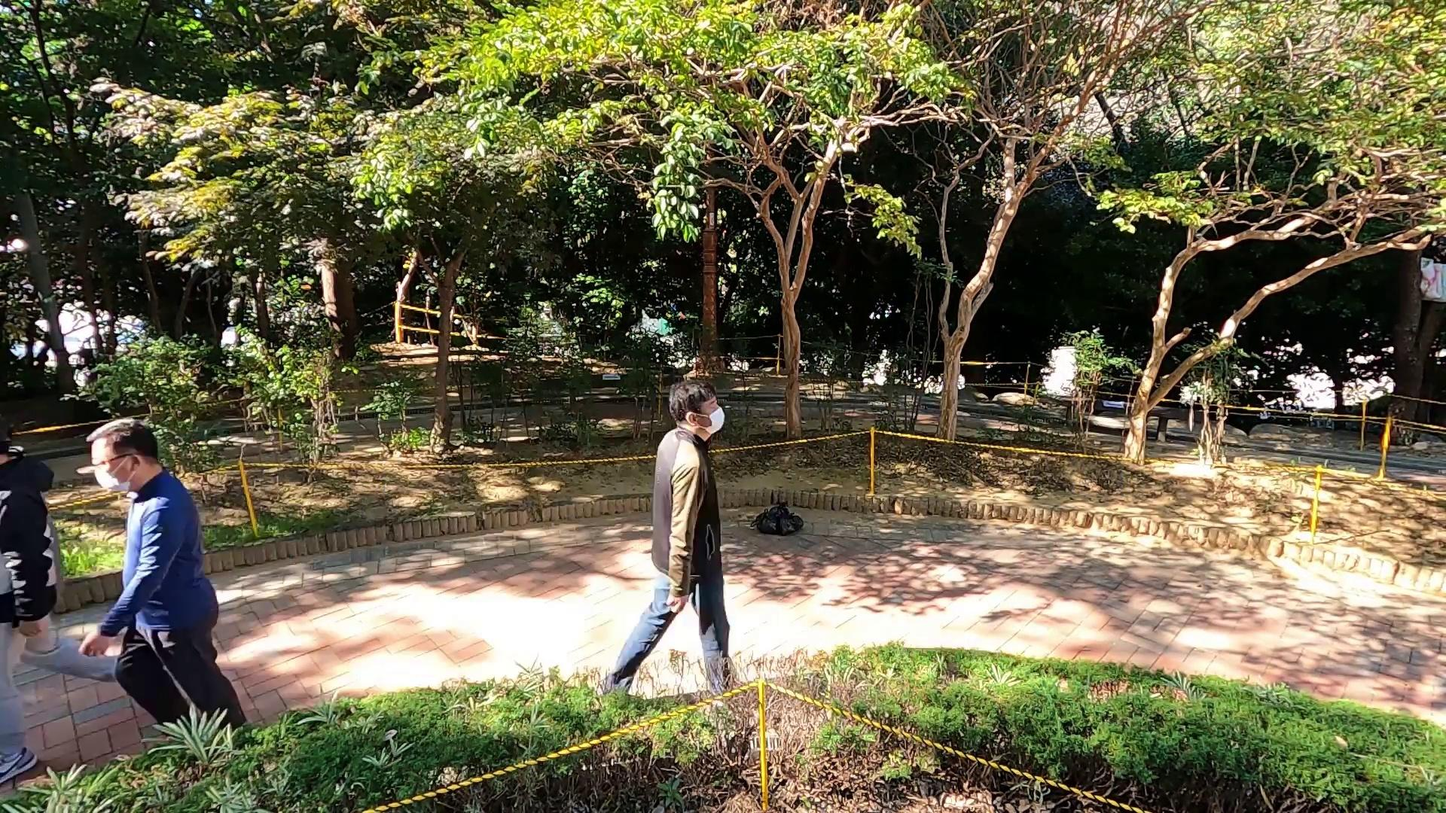person: (70, 413, 258, 750), (0, 396, 129, 787), (599, 380, 744, 702)
trash: (774, 509, 806, 541), (767, 489, 790, 521), (751, 512, 782, 535)
